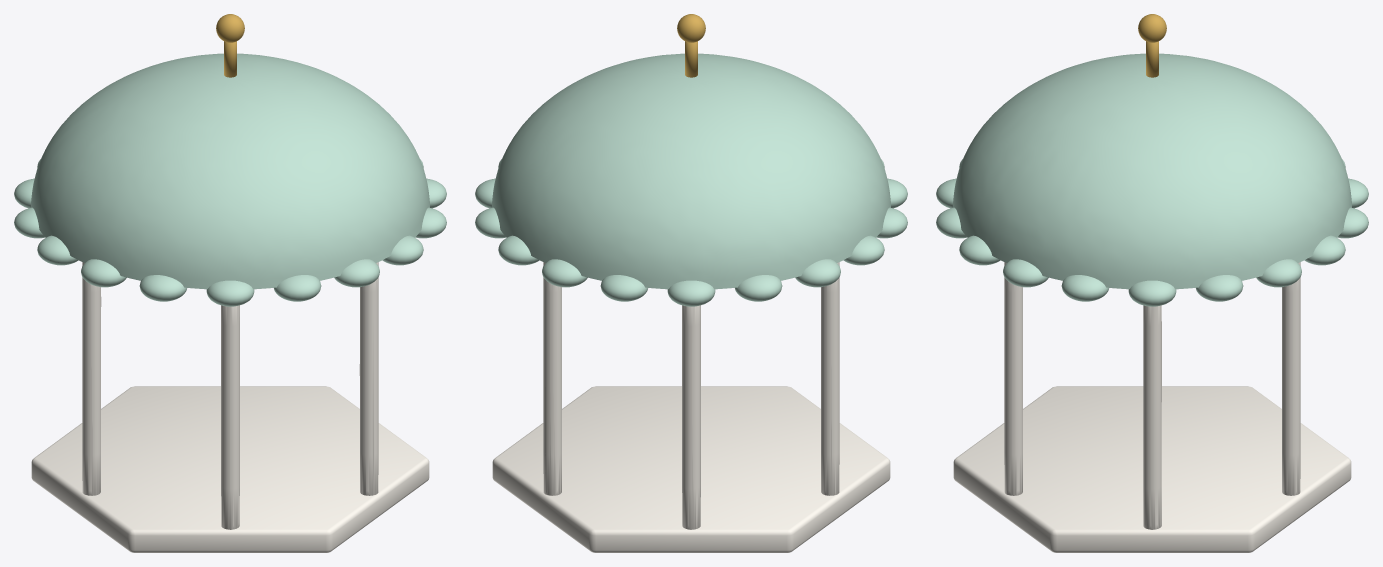
File: plush_gazebo.glb
3 renders of one model, left to right at view 1: azimuth 30°, elevation 25°; view 2: azimuth 150°, elevation 25°; view 3: azimuth 270°, elevation 25°, orthographic.
Parts seen in each view (by area): view 1: Sphere, floor, spire; view 2: Sphere, floor, spire; view 3: Sphere, floor, spire.
Part boxes in pixels (x1=…): Sphere: x1=14, y1=53, x2=446, y2=306; floor: x1=31, y1=262, x2=429, y2=552; spire: x1=216, y1=14, x2=244, y2=77; Sphere: x1=475, y1=53, x2=907, y2=306; floor: x1=492, y1=262, x2=890, y2=552; spire: x1=677, y1=14, x2=705, y2=77; Sphere: x1=936, y1=53, x2=1368, y2=306; floor: x1=953, y1=262, x2=1351, y2=552; spire: x1=1138, y1=14, x2=1166, y2=77.
Bounding box in the file's own units: 2.74 × 3.21 × 2.7.
